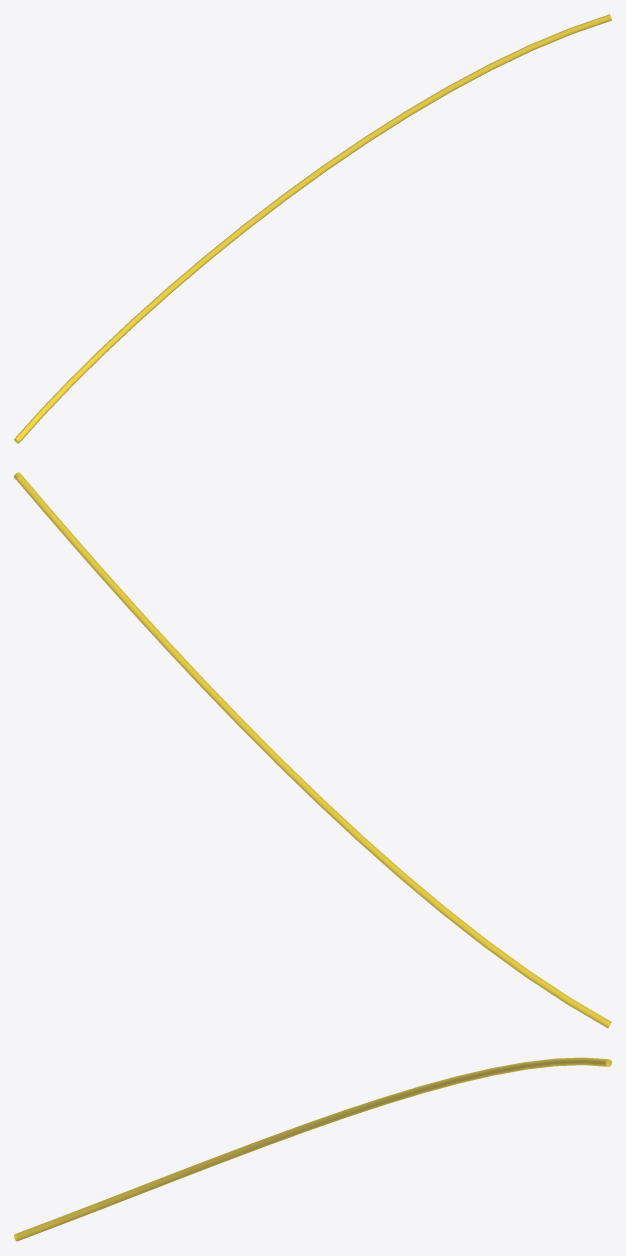
File: Event_100608114_track_124.fbx
The picture shows the model from 3 angles, top to bottom: view 1: azimuth 30°, elevation 25°; view 2: azimuth 150°, elevation 25°; view 3: azimuth 330°, elevation 25°; orthographic projection. The views are drawn at different scales.
Visible parts, largest first — view 1: Model; view 2: Model; view 3: Model.
Boxes of the visible parts, <box> form: Model: <box>14,14,611,443</box>; Model: <box>14,472,611,1028</box>; Model: <box>14,1057,611,1241</box>.
Size of the model in its own units: 3.83 by 2.11 by 0.6606.
